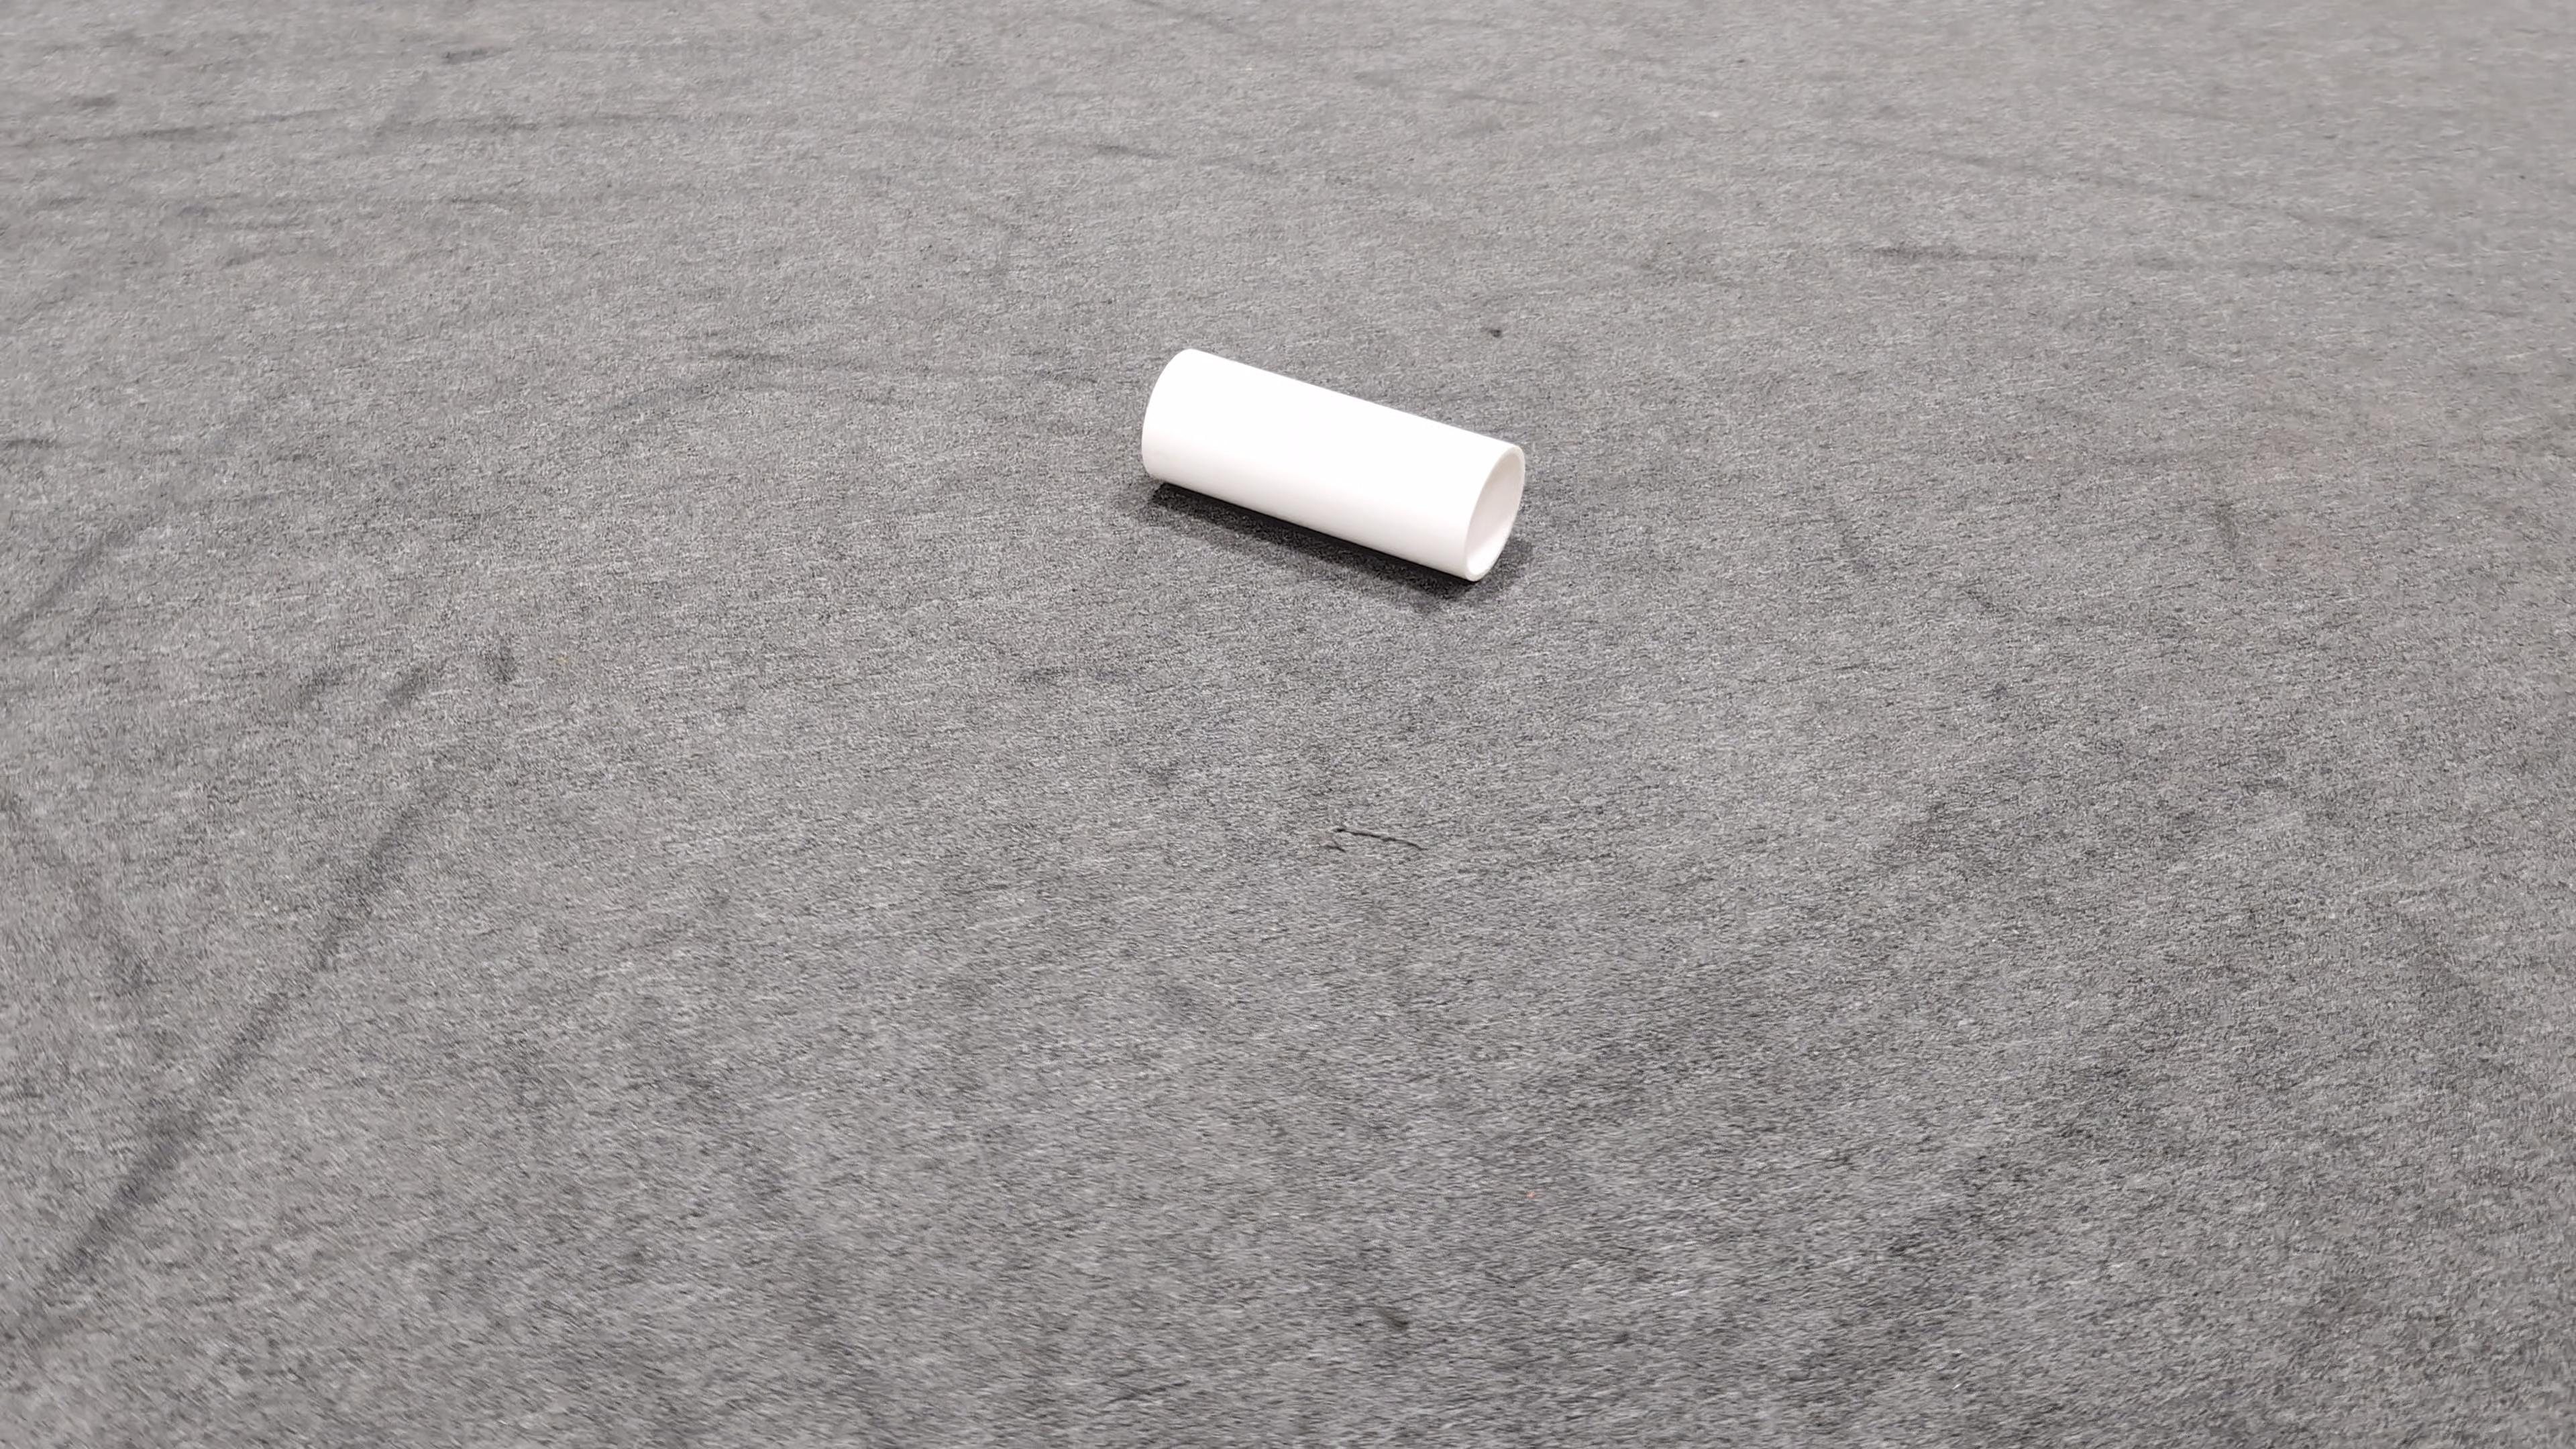coral: (1143, 349, 1523, 582)
